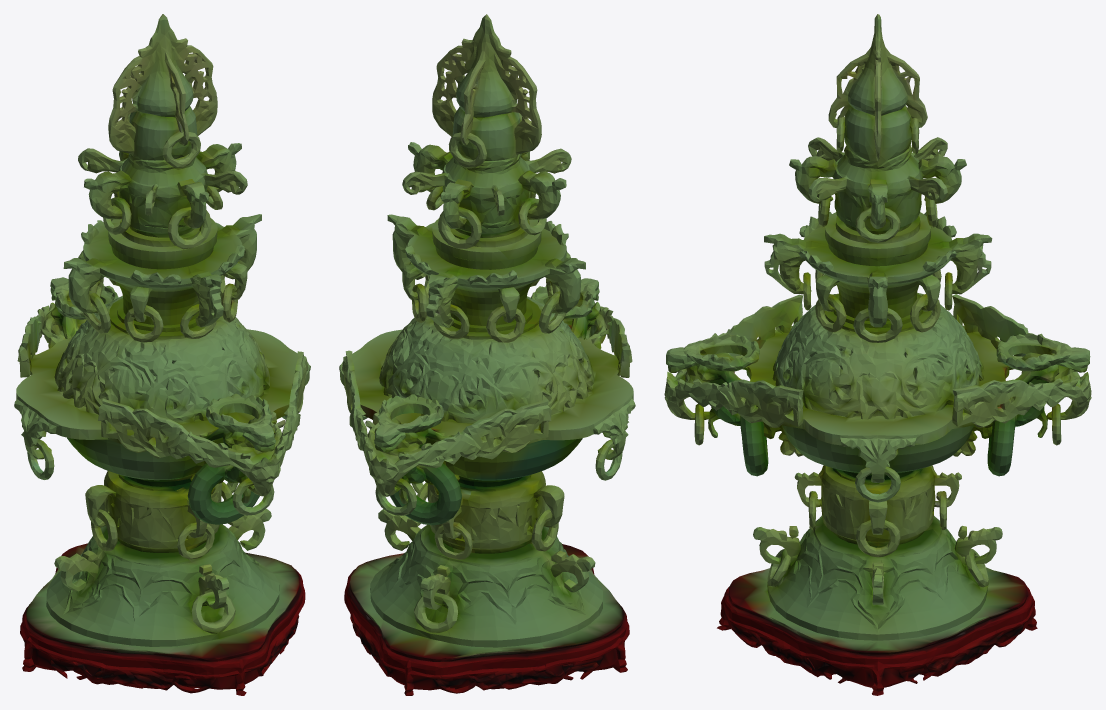
File: jade-stone.glb
The picture shows the model from 3 angles, left to right: view 1: azimuth 30°, elevation 25°; view 2: azimuth 150°, elevation 25°; view 3: azimuth 270°, elevation 25°; orthographic projection.
Visible parts, largest first — view 1: tripo_node_e6fb4a10-d7de-472c-83b4-7dcb198fde75; view 2: tripo_node_e6fb4a10-d7de-472c-83b4-7dcb198fde75; view 3: tripo_node_e6fb4a10-d7de-472c-83b4-7dcb198fde75.
Boxes of the visible parts, left/top/right/bottom form: tripo_node_e6fb4a10-d7de-472c-83b4-7dcb198fde75: left=14, top=14, right=310, bottom=695; tripo_node_e6fb4a10-d7de-472c-83b4-7dcb198fde75: left=339, top=14, right=635, bottom=695; tripo_node_e6fb4a10-d7de-472c-83b4-7dcb198fde75: left=664, top=14, right=1091, bottom=695.
Bounding box in the file's own units: 0.4697 × 1 × 0.6283.
